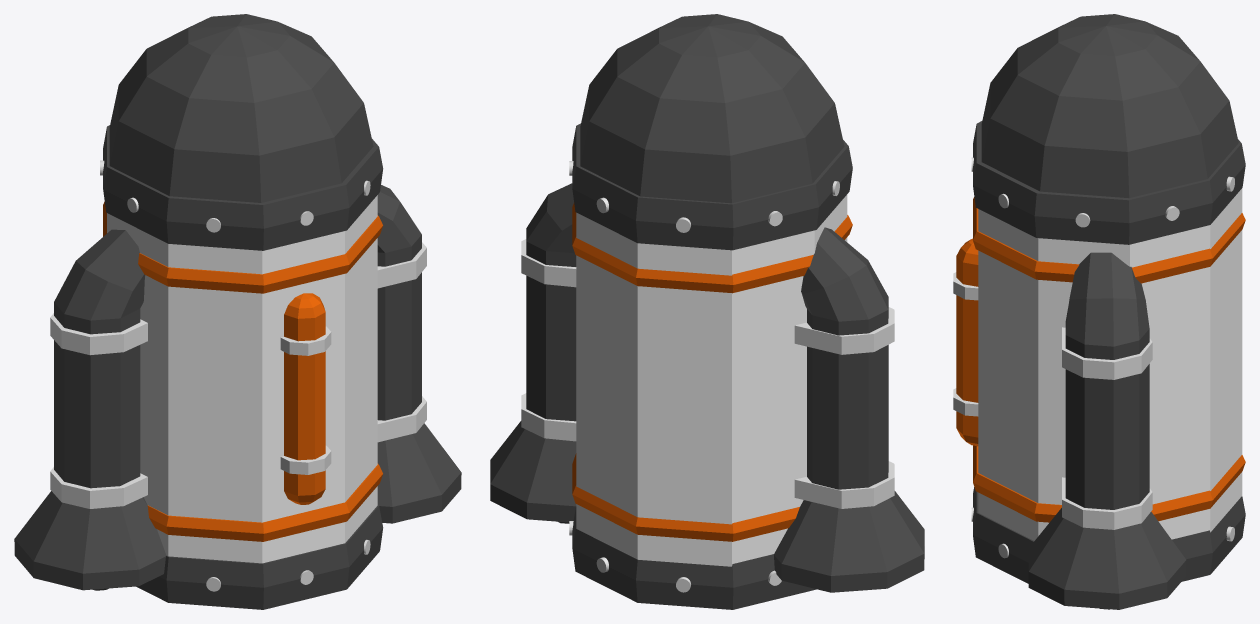
The model's file is Rocket Wide To Tail 3.fbx.
3 renders of one model, left to right at view 1: azimuth 30°, elevation 25°; view 2: azimuth 150°, elevation 25°; view 3: azimuth 270°, elevation 25°, orthographic. The views are drawn at different scales.
Visible parts, largest first — view 1: Окружность.008; view 2: Окружность.008; view 3: Окружность.008.
Part boxes in pixels (<box>): Окружность.008: <box>14,14,461,609</box>; Окружность.008: <box>490,14,924,609</box>; Окружность.008: <box>953,14,1245,609</box>.
Bounding box in the file's own units: 490 × 584 × 303.
